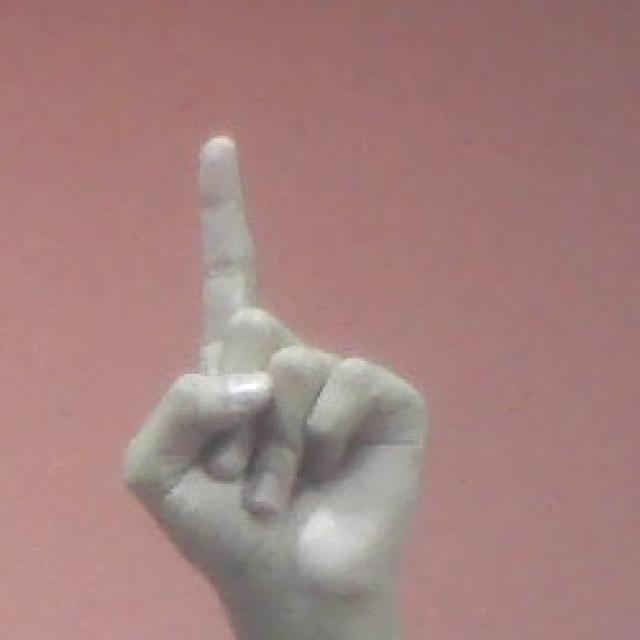Numeric-1: (124, 132, 427, 608)
